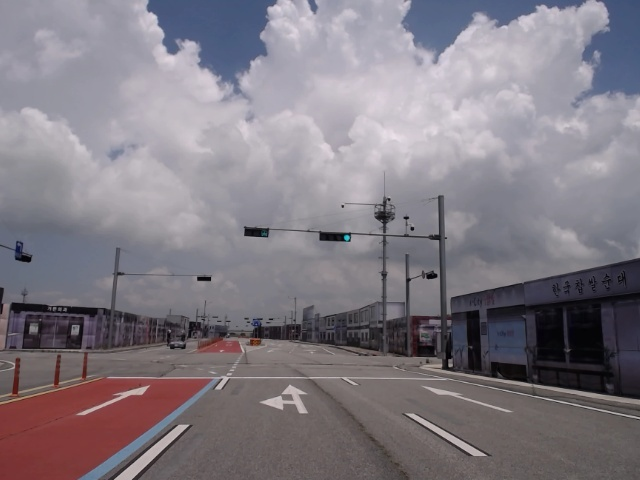straight_green_4: (320, 232, 351, 242)
